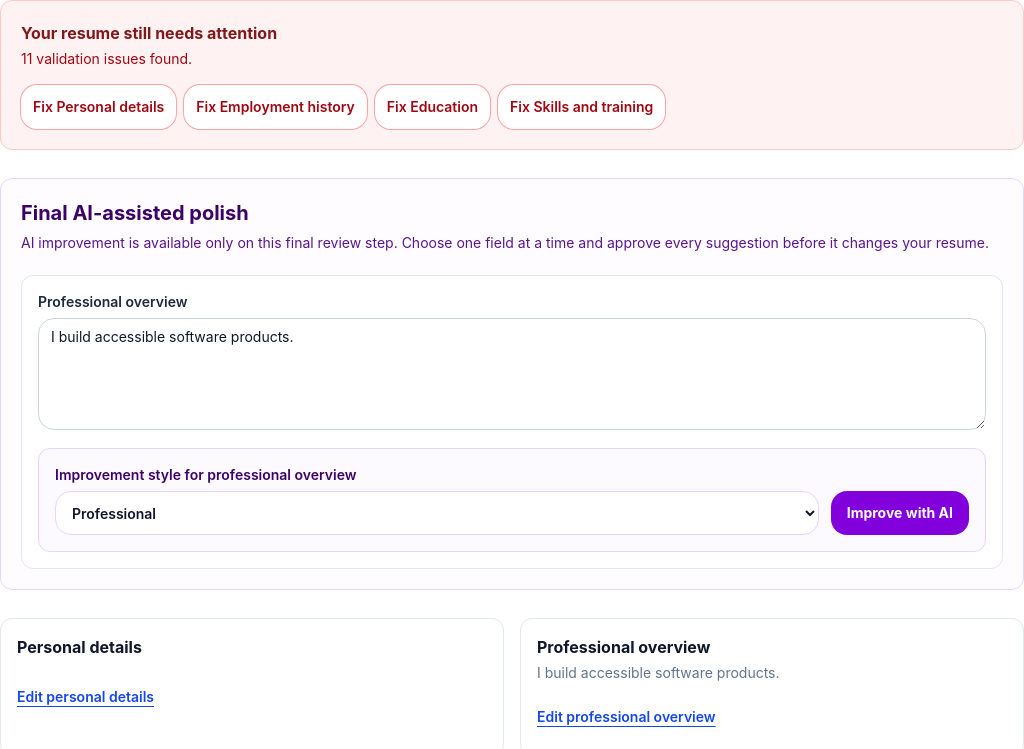
Scenario: controlled AI assistance › uses consent once per page session and retries a network failure
The width and height of the screenshot is (1024, 749).
Click the button with aria-label "Improve professional overview with AI" at (900, 513), box left=831, top=491, right=969, bottom=535
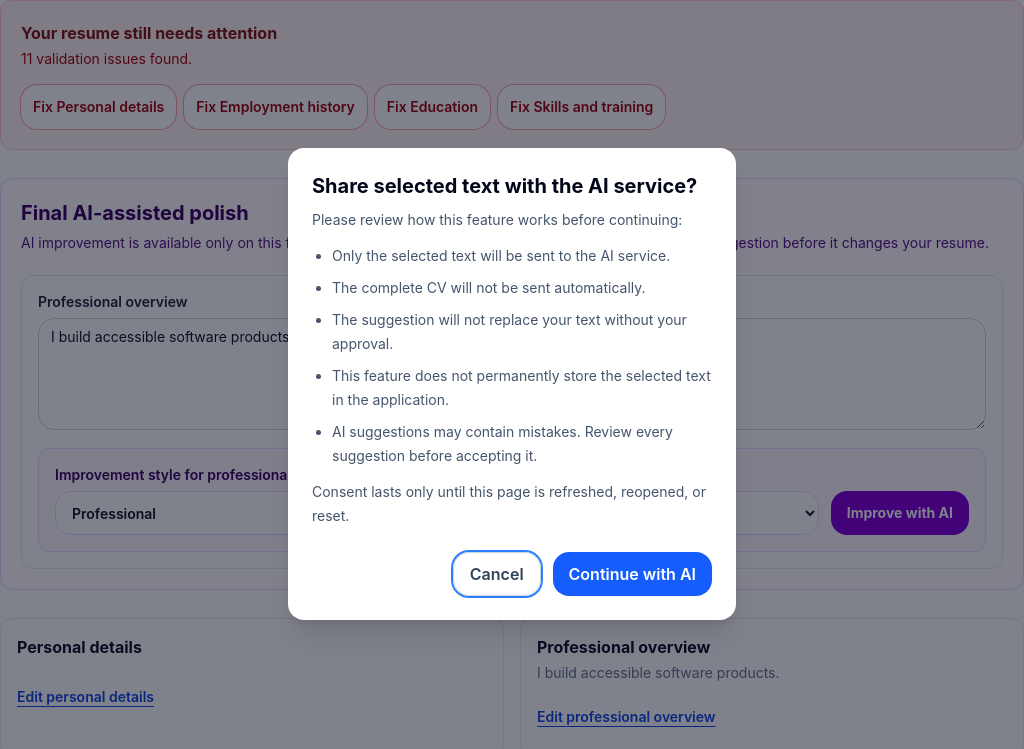
Click the button "Continue with AI" at (632, 574), box left=553, top=552, right=712, bottom=596
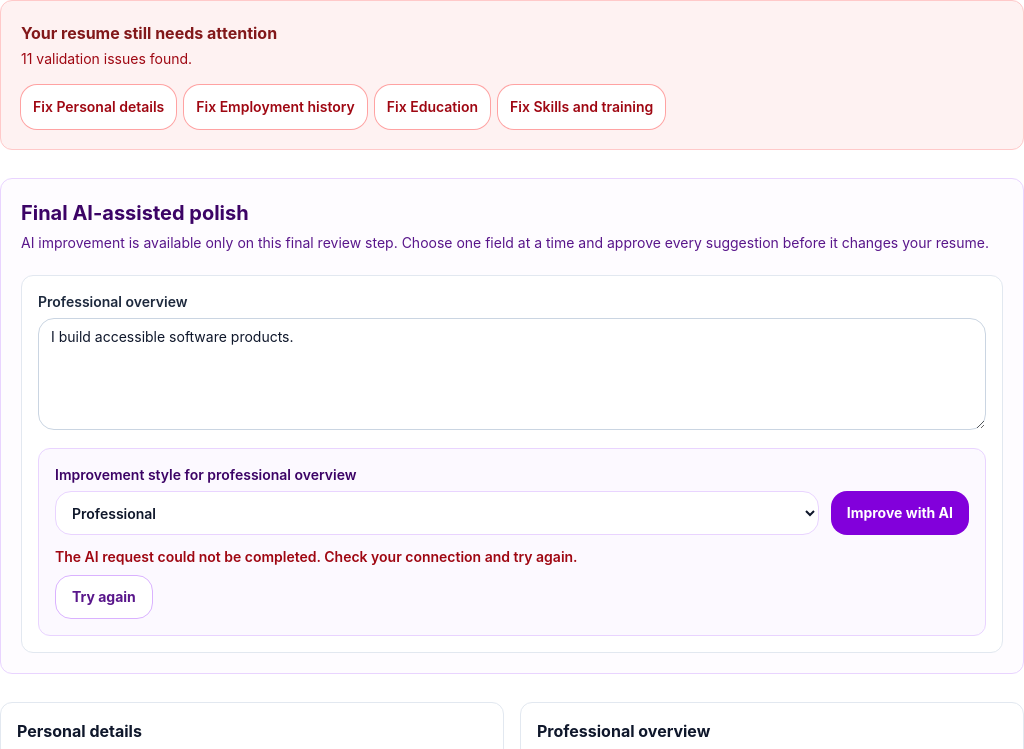
Expected: the text "The AI request could not be completed. Check your connection and try again." is shown, left=55, top=548, right=578, bottom=565
Click the button "Try again" at (104, 597), box left=55, top=575, right=153, bottom=619
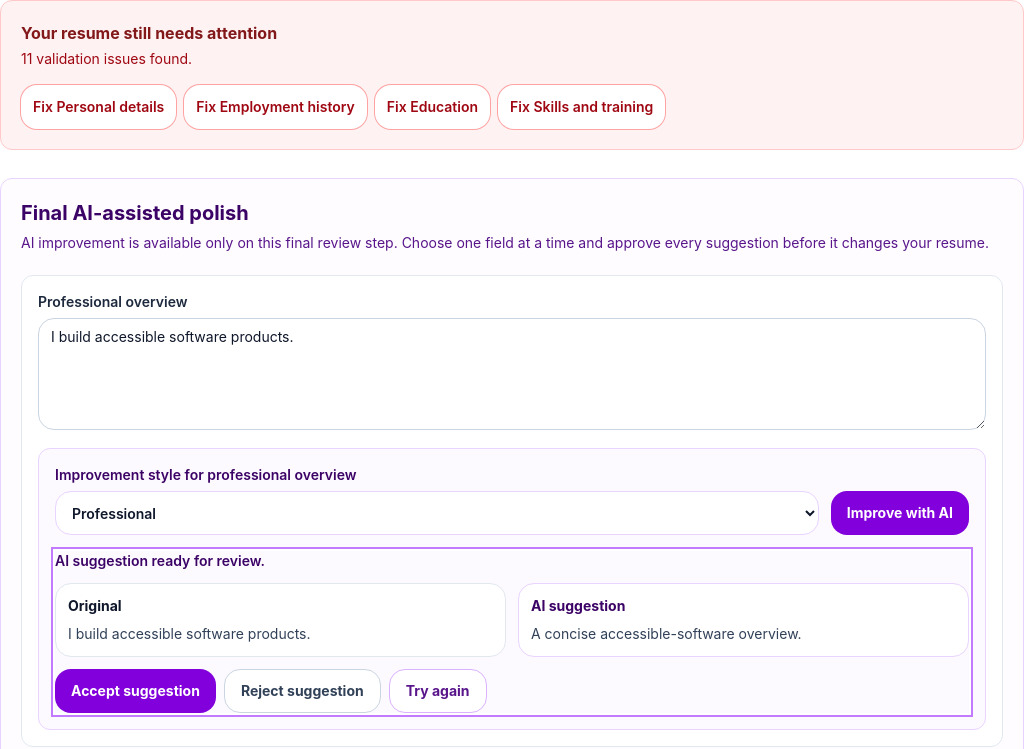
Expected: the text "A concise accessible-software overview." is shown, left=531, top=625, right=802, bottom=642
